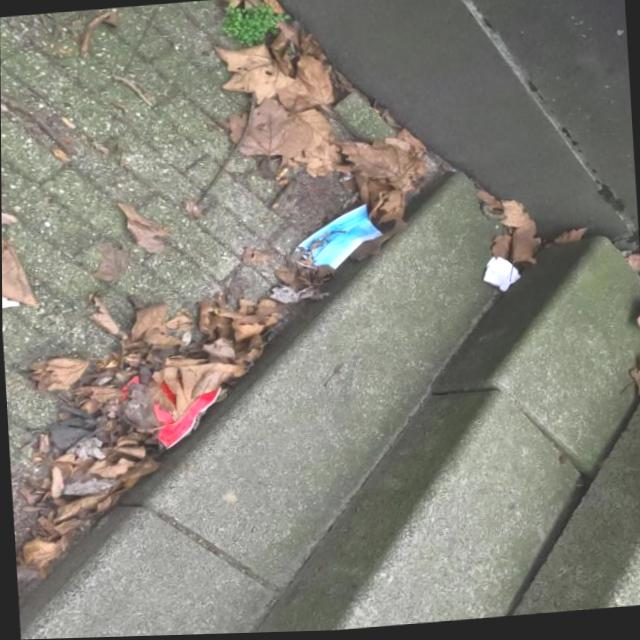Cup: (114, 365, 227, 456)
Mask: (289, 202, 387, 275)
Paper: (480, 256, 522, 296)
